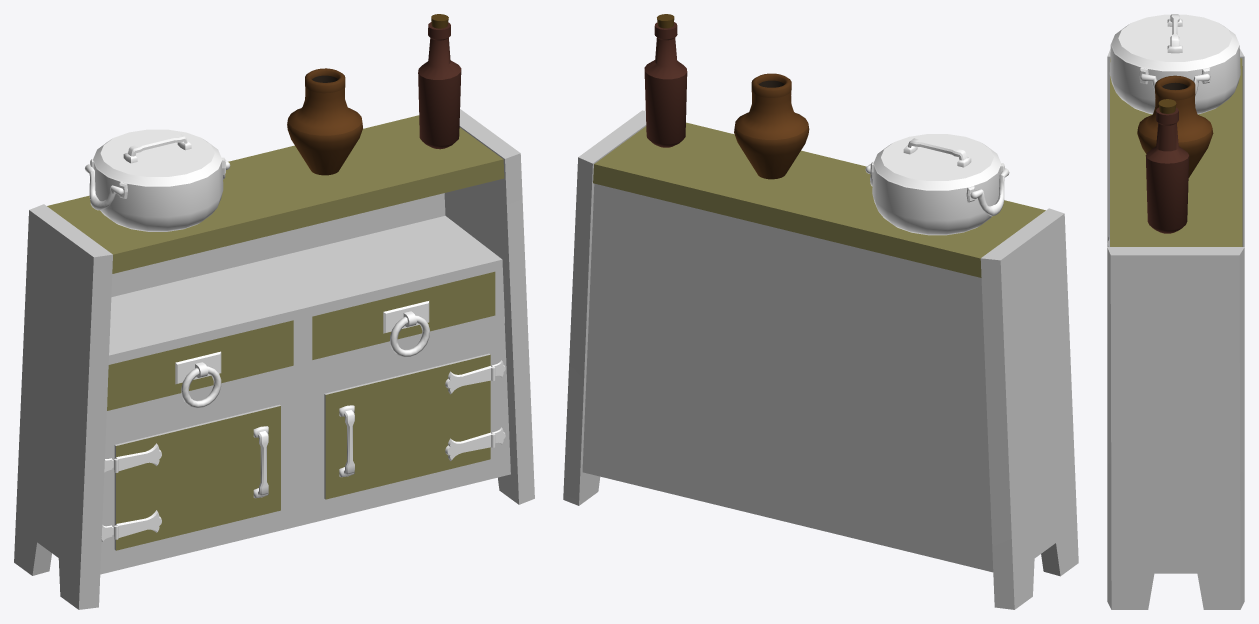
Rendered from pantry_shelf.glb.
3 renders of one model, left to right at view 1: azimuth 30°, elevation 25°; view 2: azimuth 150°, elevation 25°; view 3: azimuth 270°, elevation 25°, orthographic.
Visible parts, largest first — view 1: Cube098, Pot_1_Lid, Cube098_1, Vase_4, Bottle_1; view 2: Cube098, Pot_1_Lid, Vase_4, Bottle_1; view 3: Cube098, Pot_1_Lid, Bottle_1, Vase_4.
Boxes of the visible parts, x1=… form: Cube098: x1=14, y1=109, x2=534, y2=609; Pot_1_Lid: x1=85, y1=129, x2=230, y2=231; Cube098_1: x1=101, y1=301, x2=505, y2=541; Vase_4: x1=287, y1=68, x2=362, y2=175; Bottle_1: x1=418, y1=14, x2=461, y2=149; Cube098: x1=563, y1=110, x2=1078, y2=609; Pot_1_Lid: x1=865, y1=134, x2=1009, y2=235; Vase_4: x1=734, y1=73, x2=809, y2=179; Bottle_1: x1=644, y1=14, x2=687, y2=147; Cube098: x1=1107, y1=48, x2=1244, y2=609; Pot_1_Lid: x1=1109, y1=14, x2=1240, y2=114; Bottle_1: x1=1145, y1=99, x2=1189, y2=233; Vase_4: x1=1137, y1=75, x2=1213, y2=177.
Bounding box in the file's own units: 1.36 × 1.36 × 0.3571.
